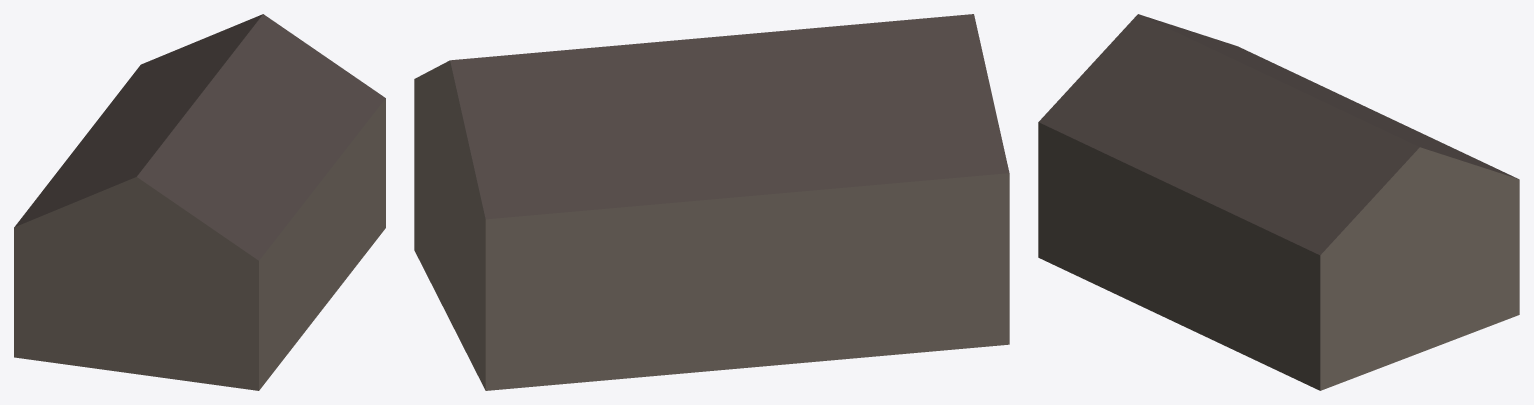
3 renders of one model, left to right at view 1: azimuth 30°, elevation 25°; view 2: azimuth 150°, elevation 25°; view 3: azimuth 270°, elevation 25°, orthographic. The views are drawn at different scales.
Visible parts, largest first — view 1: HP-w859424164; view 2: HP-w859424164; view 3: HP-w859424164.
Part boxes in pixels (x1,y1,x2,y2): HP-w859424164: (14, 14, 385, 390); HP-w859424164: (414, 14, 1009, 390); HP-w859424164: (1038, 14, 1519, 390).
Size of the model in its own units: 19.87 by 9.11 by 19.3.
